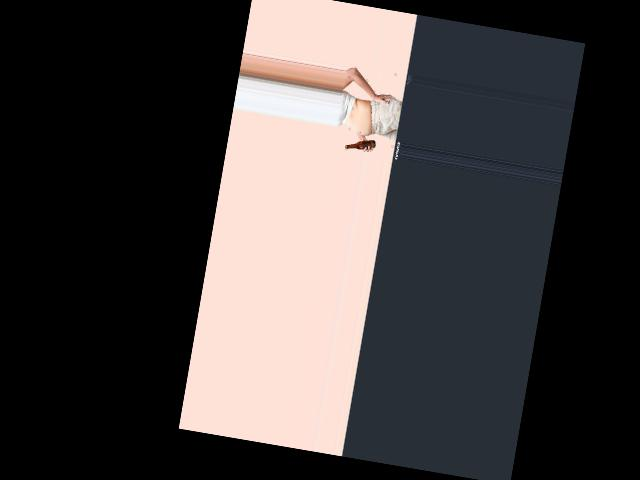beer: (345, 134, 377, 153)
